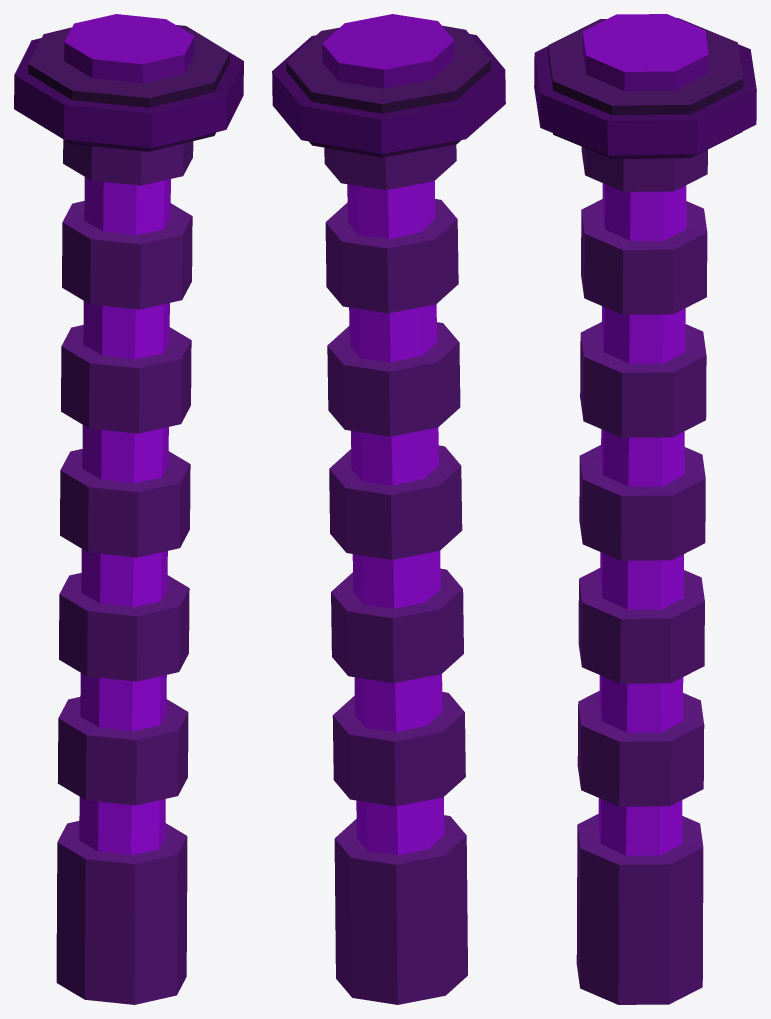
Rendered from fusion_rotate.glb.
3 renders of one model, left to right at view 1: azimuth 30°, elevation 25°; view 2: azimuth 150°, elevation 25°; view 3: azimuth 270°, elevation 25°, orthographic.
Parts seen in each view (by area): view 1: fusionRotate; view 2: fusionRotate; view 3: fusionRotate.
Part boxes in pixels (box(x1,y1,x2,y2)): fusionRotate: box(14, 14, 243, 1004); fusionRotate: box(272, 14, 505, 1004); fusionRotate: box(534, 14, 756, 1004).
Bounding box in the file's own units: 0.0255 × 0.1197 × 0.0256.
Materials: 1 (1 with a texture image).
